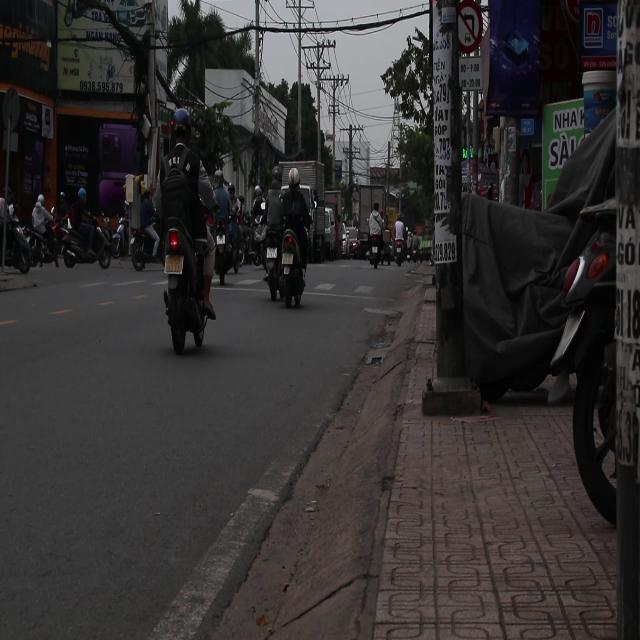car: (310, 207, 337, 261), (344, 228, 359, 260)
motorbike: (166, 212, 218, 342), (266, 219, 310, 308), (60, 213, 112, 271), (1, 201, 35, 271), (29, 196, 61, 266), (112, 212, 132, 258), (377, 232, 398, 267)
